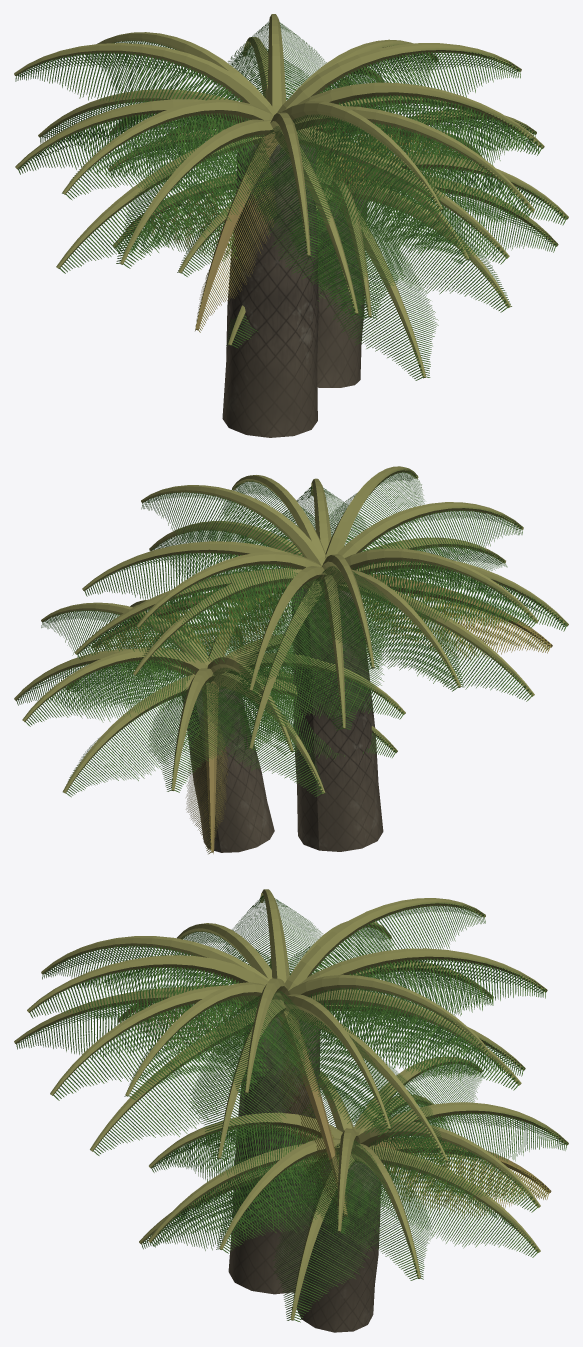
File: Sotetsu.gltf
3 views of the same model, one above another, from view 1: azimuth 30°, elevation 25°; view 2: azimuth 150°, elevation 25°; view 3: azimuth 270°, elevation 25° (orthographic). The views are drawn at different scales.
Parts seen in each view (by area): view 1: Sotetsu; view 2: Sotetsu; view 3: Sotetsu.
Part boxes in pixels (left/top/right/bottom): Sotetsu: left=14, top=14, right=568, bottom=437; Sotetsu: left=14, top=466, right=568, bottom=854; Sotetsu: left=14, top=889, right=568, bottom=1332.
Bounding box in the file's own units: 2.65 × 1.74 × 2.57.
Materials: 2 (2 with a texture image).
